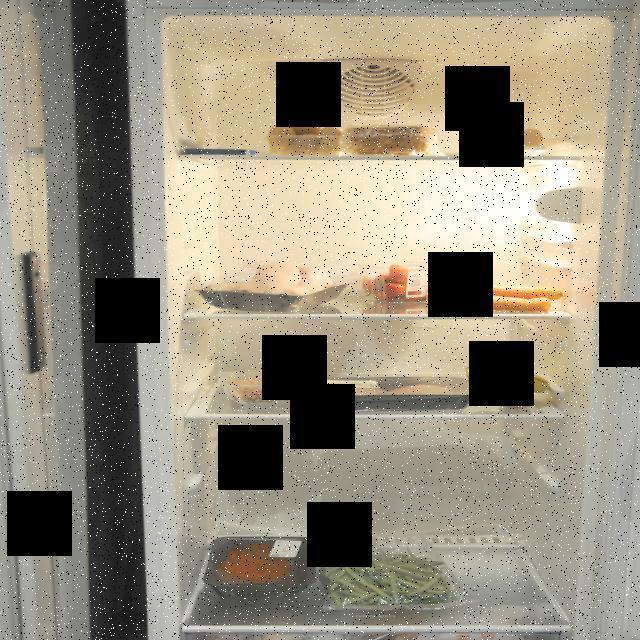banana: (462, 360, 556, 410)
beef: (202, 535, 316, 599)
bread: (347, 124, 441, 156)
carrot: (417, 280, 571, 313)
chicken: (182, 254, 349, 312)
chicken_breast: (311, 376, 484, 411)
chocolate: (181, 144, 259, 156)
egg: (473, 126, 547, 154)
green_beans: (319, 540, 461, 614)
potato: (267, 115, 345, 155)
shrimp: (224, 374, 308, 404)
strawberries: (356, 264, 464, 304)
